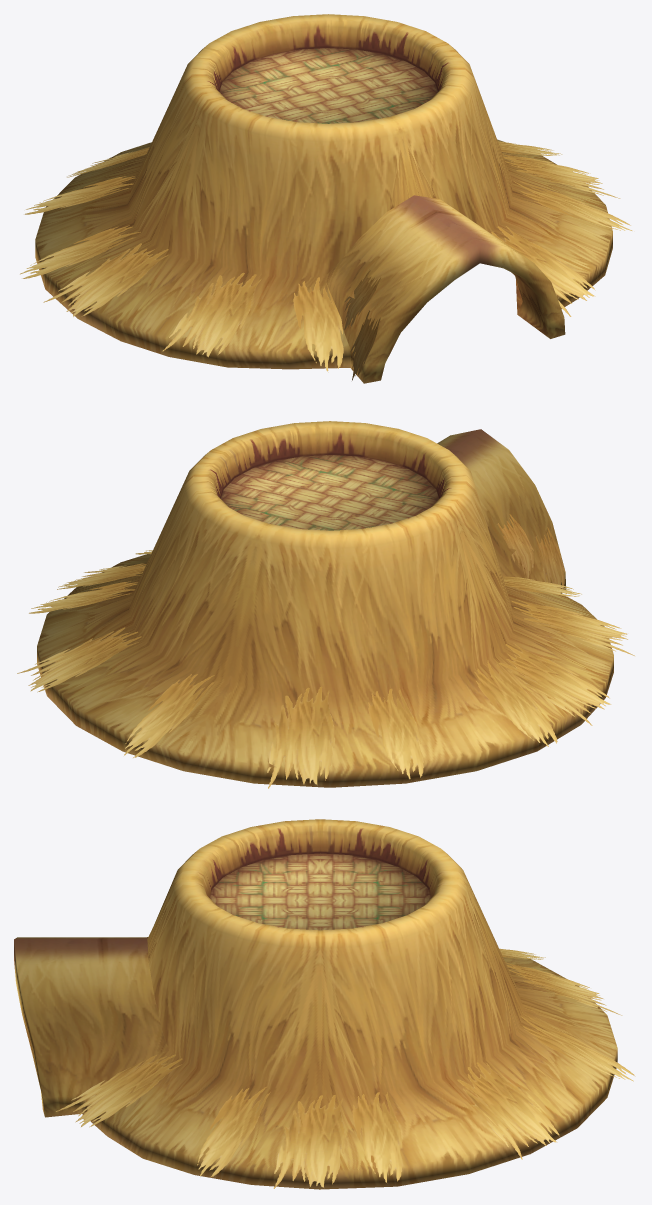
Rendered from map_1002_caowu_03_b.FBX.
3 views of the same model, one above another, from view 1: azimuth 30°, elevation 25°; view 2: azimuth 150°, elevation 25°; view 3: azimuth 270°, elevation 25° (orthographic).
Parts seen in each view (by area): view 1: map_1002_caowu_03_b; view 2: map_1002_caowu_03_b; view 3: map_1002_caowu_03_b.
Boxes of the visible parts, x1,y1,x2,y2 form: map_1002_caowu_03_b: (20, 14, 632, 383); map_1002_caowu_03_b: (17, 421, 634, 788); map_1002_caowu_03_b: (14, 819, 635, 1189).
Size of the model in its own units: 8.9 by 3.17 by 8.63.
